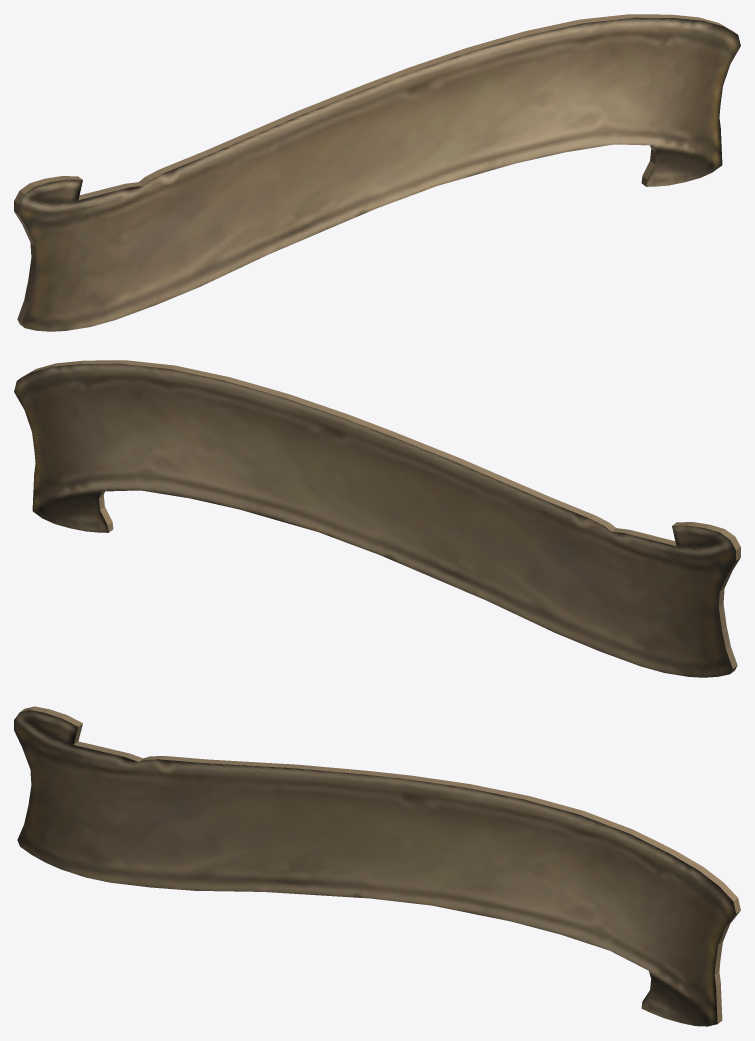
Rendered from NameTag_Played.glb.
3 renders of one model, top to bottom at view 1: azimuth 30°, elevation 25°; view 2: azimuth 150°, elevation 25°; view 3: azimuth 330°, elevation 25°, orthographic.
Parts seen in each view (by area): view 1: Circle; view 2: Circle; view 3: Circle.
Part boxes in pixels (x1,y1,x2,y2): Circle: [14, 14, 740, 331]; Circle: [14, 360, 740, 677]; Circle: [14, 706, 740, 1026].
Bounding box in the file's own units: 6.48 × 1.59 × 0.075.
Materials: 1 (1 with a texture image).
